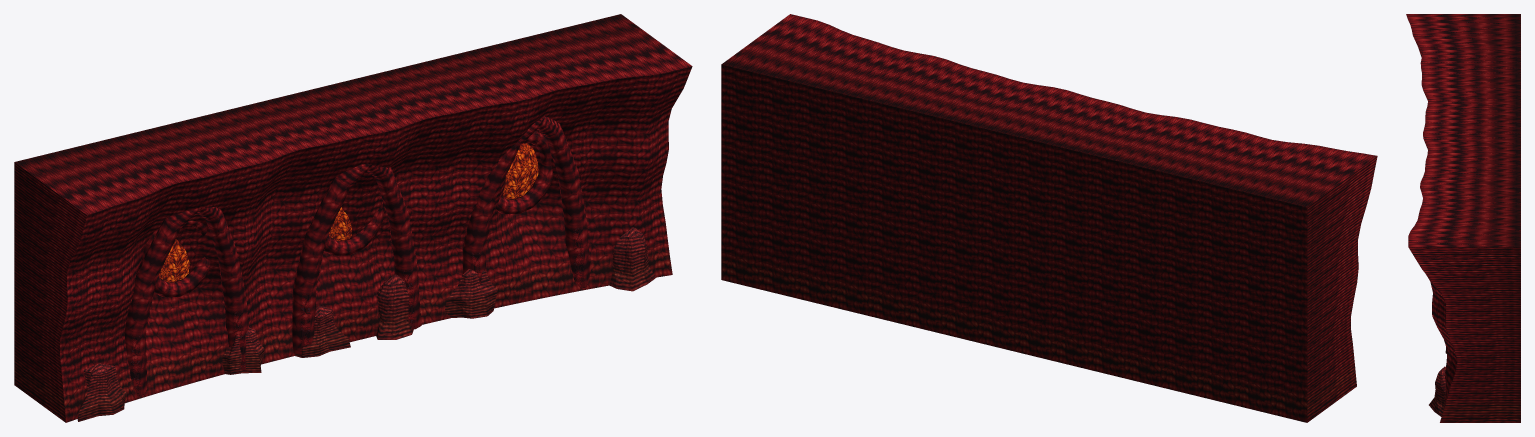
File: Cavern_Wall_End.glb
3 renders of one model, left to right at view 1: azimuth 30°, elevation 25°; view 2: azimuth 150°, elevation 25°; view 3: azimuth 270°, elevation 25°, orthographic. The views are drawn at different scales.
Parts seen in each view (by area): view 1: Cavern_Wall_End_FleshCliffs, Cavern_Wall_End_ShoreBase, Cavern_Wall_End_AlveoliAlcoves; view 2: Cavern_Wall_End_FleshCliffs; view 3: Cavern_Wall_End_FleshCliffs, Cavern_Wall_End_ShoreBase.
Part boxes in pixels (bbox=[...]): Cavern_Wall_End_FleshCliffs: bbox=[14, 14, 692, 422]; Cavern_Wall_End_ShoreBase: bbox=[77, 227, 656, 421]; Cavern_Wall_End_AlveoliAlcoves: bbox=[158, 143, 538, 282]; Cavern_Wall_End_FleshCliffs: bbox=[721, 14, 1377, 422]; Cavern_Wall_End_FleshCliffs: bbox=[1406, 14, 1520, 422]; Cavern_Wall_End_ShoreBase: bbox=[1429, 347, 1447, 416].
Size of the model in its own units: 165 by 58 by 34.35.
3 materials, 3 textured.
